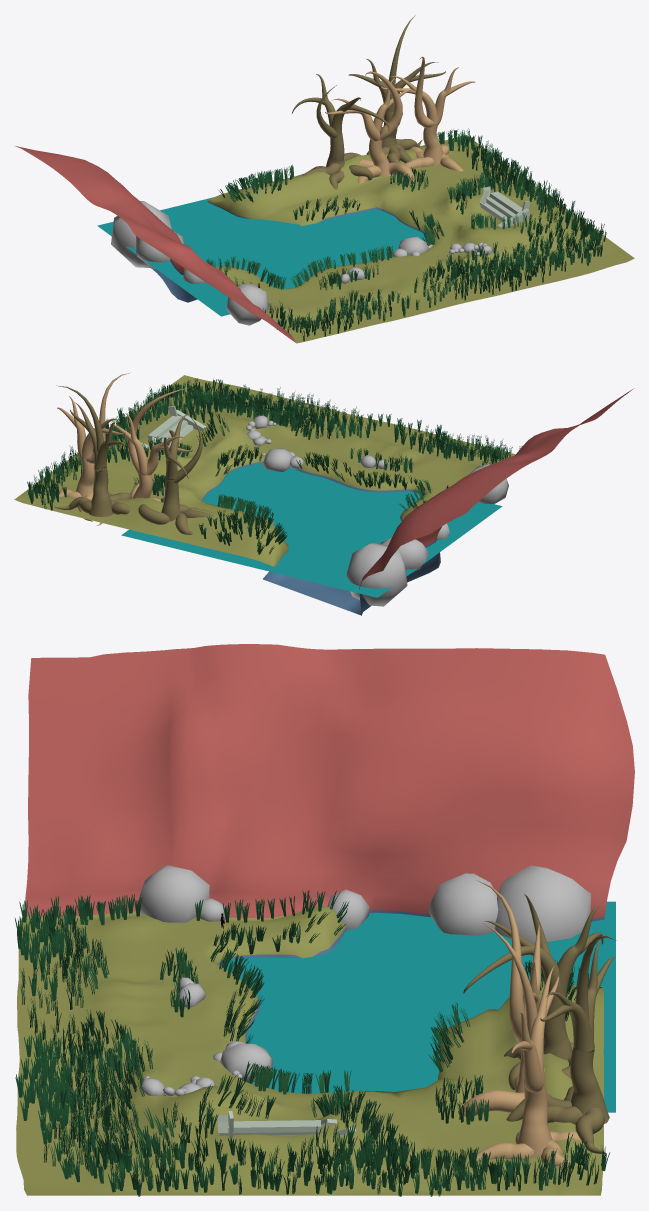
File: escenario_v4b.fbx
3 views of the same model, one above another, from view 1: azimuth 30°, elevation 25°; view 2: azimuth 150°, elevation 25°; view 3: azimuth 270°, elevation 25° (orthographic). The views are drawn at different scales.
Parts seen in each view (by area): view 1: Suelo, Agua, Arbol_01, Arbol_03, Arbol_04, Arbol_02, escaleras, Piedra.020, Piedra.016, Piedra.018; view 2: Suelo, Agua, Arbol_02, Arbol_04, Piedra.020, Arbol_03, Arbol_01, escaleras, Piedra.018, Piedra, Piedra.016; view 3: Suelo, Agua, Arbol_02, Arbol_01, Piedra.020, Arbol_04, Piedra.018, Arbol_03, Piedra.016, escaleras, Piedra, Piedra.019.
Part boxes in pixels (box(x1,y1,x2,y2)): Suelo: box(15, 135, 634, 343); Agua: box(97, 197, 428, 316); Arbol_01: box(381, 56, 475, 171); Arbol_03: box(325, 71, 415, 185); Arbol_04: box(291, 74, 389, 189); Arbol_02: box(348, 15, 445, 162); escaleras: box(479, 186, 530, 227); Piedra.020: box(111, 200, 171, 267); Piedra.016: box(226, 284, 269, 325); Piedra.018: box(136, 231, 183, 269); Suelo: box(14, 375, 633, 615); Agua: box(121, 463, 502, 597); Arbol_02: box(54, 385, 131, 517); Arbol_04: box(138, 414, 213, 534); Piedra.020: box(346, 543, 407, 606); Arbol_03: box(97, 387, 192, 525); Arbol_01: box(57, 372, 130, 521); escaleras: box(141, 406, 206, 449); Piedra.018: box(380, 538, 428, 573); Piedra: box(262, 448, 293, 471); Piedra.016: box(468, 464, 508, 504); Suelo: box(16, 644, 634, 1195); Agua: box(219, 901, 615, 1112); Arbol_02: box(506, 935, 616, 1154); Arbol_01: box(476, 923, 581, 1166); Piedra.020: box(495, 865, 590, 942); Arbol_04: box(463, 894, 603, 1089); Piedra.018: box(428, 873, 498, 935); Arbol_03: box(458, 880, 544, 1116); Piedra.016: box(139, 865, 209, 922); escaleras: box(218, 1111, 356, 1137); Piedra: box(220, 1043, 272, 1082); Piedra.019: box(327, 889, 369, 929).
Bounding box in the file's own units: 75619 × 25549 × 52229.
